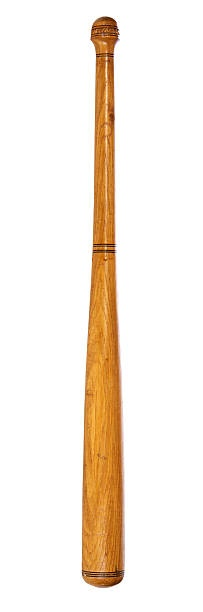bita: (76, 22, 125, 591)
